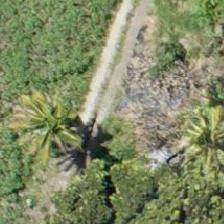coconut_tree: (167, 98, 223, 188)
